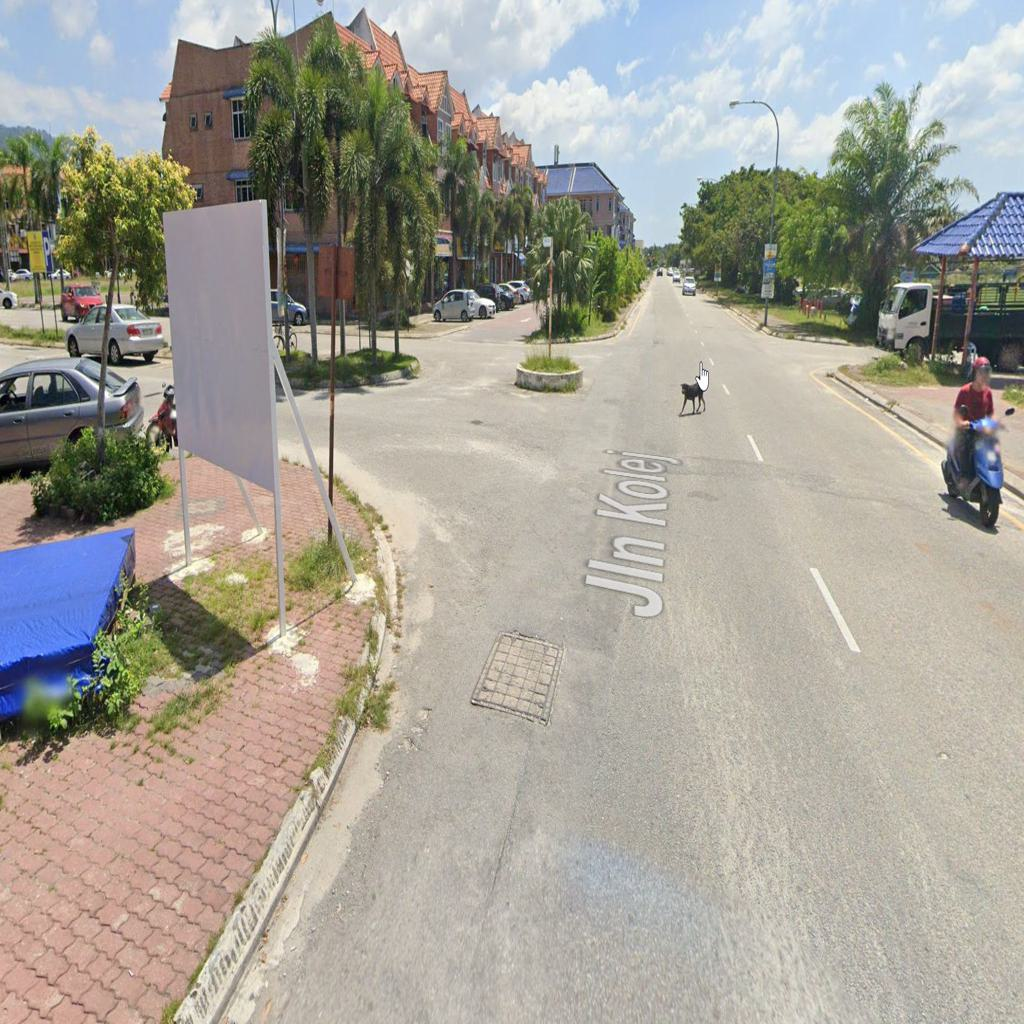Junction: (281, 353, 570, 620), (769, 304, 944, 380)
